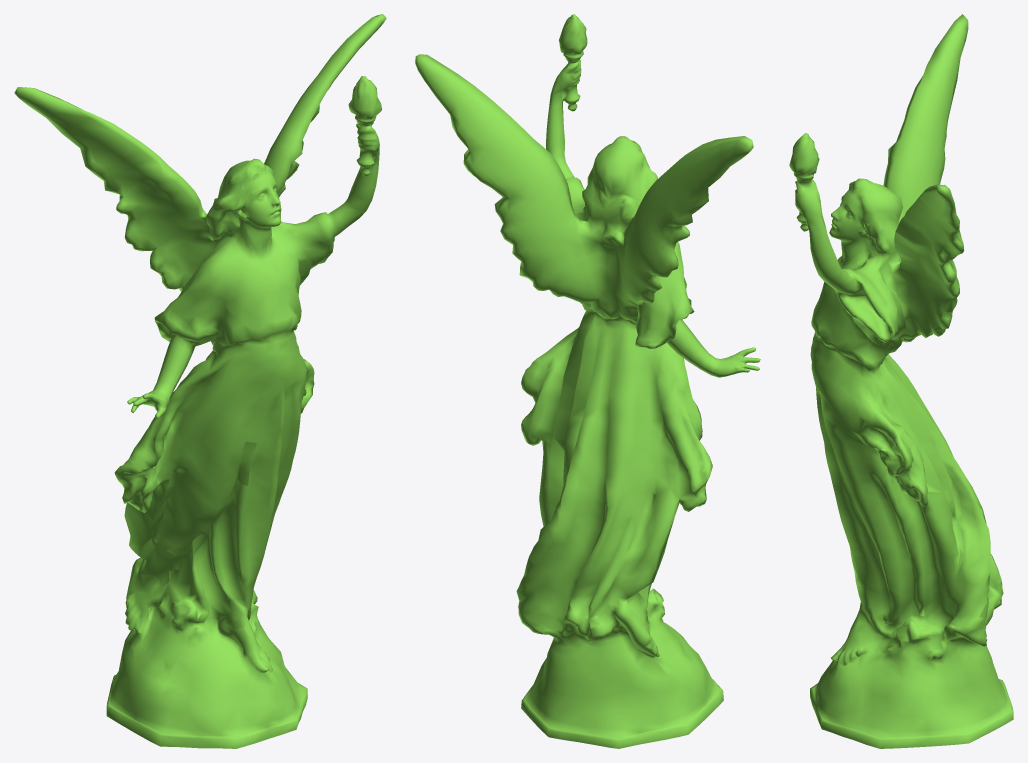
File: Stanford's Lucy Angel.obj
3 renders of one model, left to right at view 1: azimuth 30°, elevation 25°; view 2: azimuth 150°, elevation 25°; view 3: azimuth 270°, elevation 25°, orthographic. The views are drawn at different scales.
Parts seen in each view (by area): view 1: Stanford_s_Lucy_Angel_low; view 2: Stanford_s_Lucy_Angel_low; view 3: Stanford_s_Lucy_Angel_low.
Boxes of the visible parts, <box> form: Stanford_s_Lucy_Angel_low: <box>14,14,386,748</box>; Stanford_s_Lucy_Angel_low: <box>415,14,760,748</box>; Stanford_s_Lucy_Angel_low: <box>789,14,1013,748</box>.
Bounding box in the file's own units: 80.82 × 139 × 45.36.
